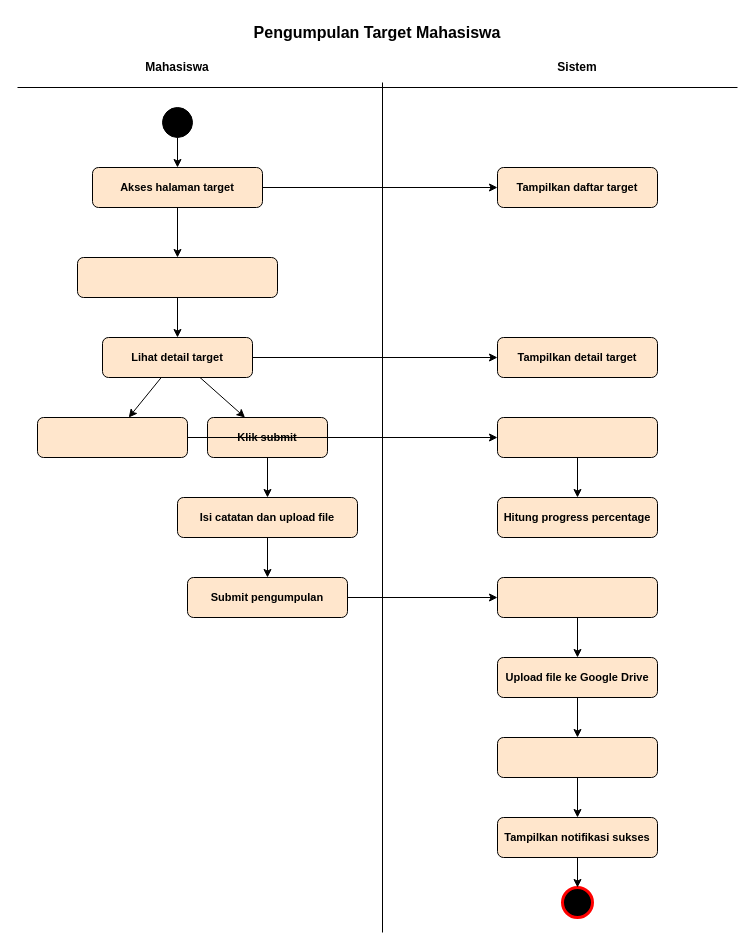
Some shapes in this 755 by 950 pixel diagram are drawn without their labels. Here are the shapes that lost their labels. From the top down, the centre of each, then its label:
At point (177, 277): "Pilih target yang dikerjakan".
At point (112, 437): "Centang todo list selesai".
At point (577, 437): "Update status todo item".
At point (577, 597): "Validasi pengumpulan".
At point (577, 757): "Simpan data pengumpulan".
